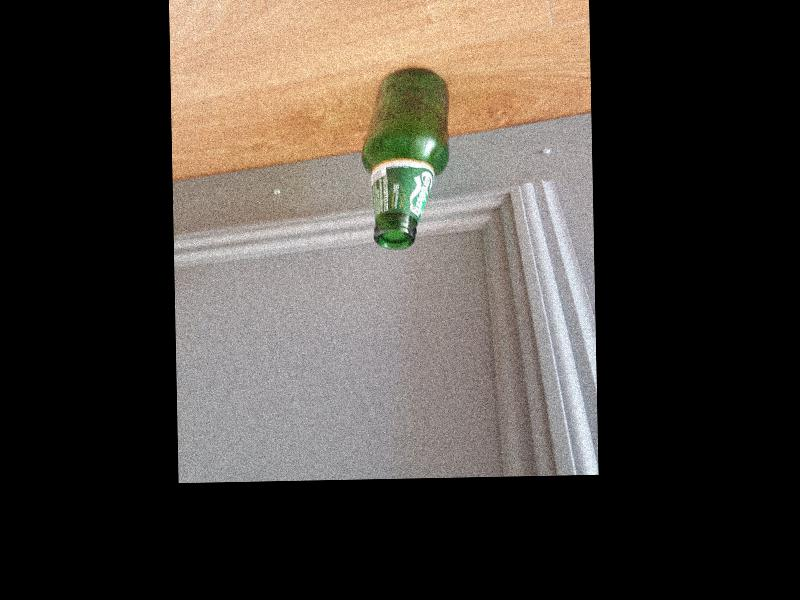Beer: (359, 66, 452, 249)
